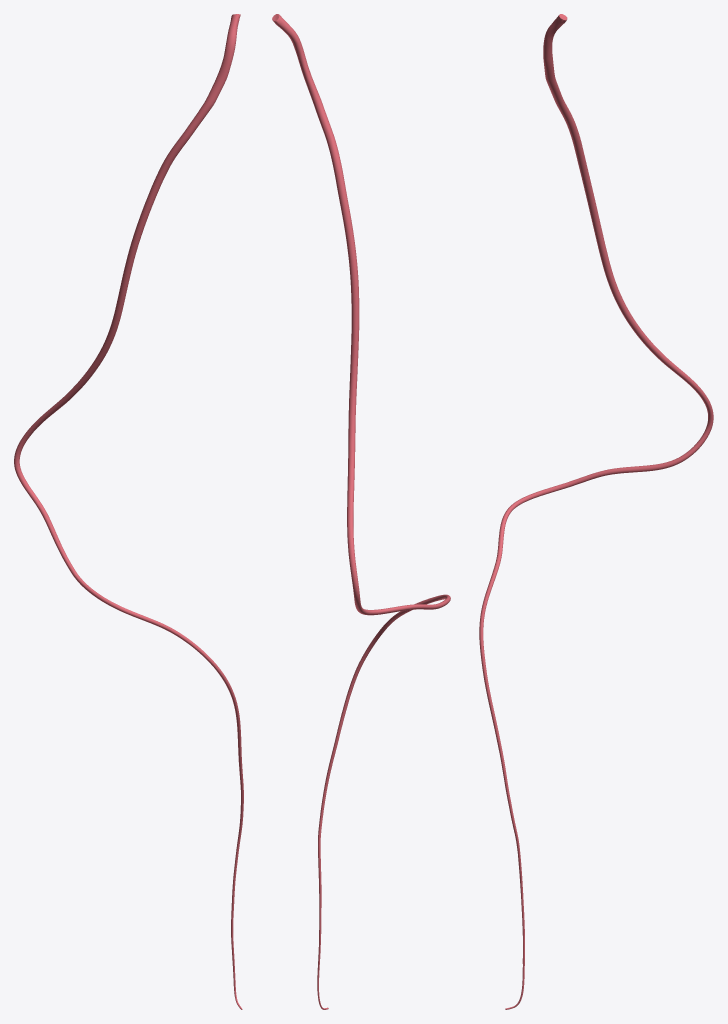
File: fma14341_fj3618.glb
3 renders of one model, left to right at view 1: azimuth 30°, elevation 25°; view 2: azimuth 150°, elevation 25°; view 3: azimuth 270°, elevation 25°, orthographic. The views are drawn at different scales.
Visible parts, largest first — view 1: FMA14341_FJ3618; view 2: FMA14341_FJ3618; view 3: FMA14341_FJ3618.
Part boxes in pixels (x1,y1,x2,y2): FMA14341_FJ3618: [14, 14, 243, 1009]; FMA14341_FJ3618: [272, 14, 450, 1009]; FMA14341_FJ3618: [479, 14, 713, 1009].
Size of the model in its own units: 0.0578 by 0.3328 by 0.0702.
